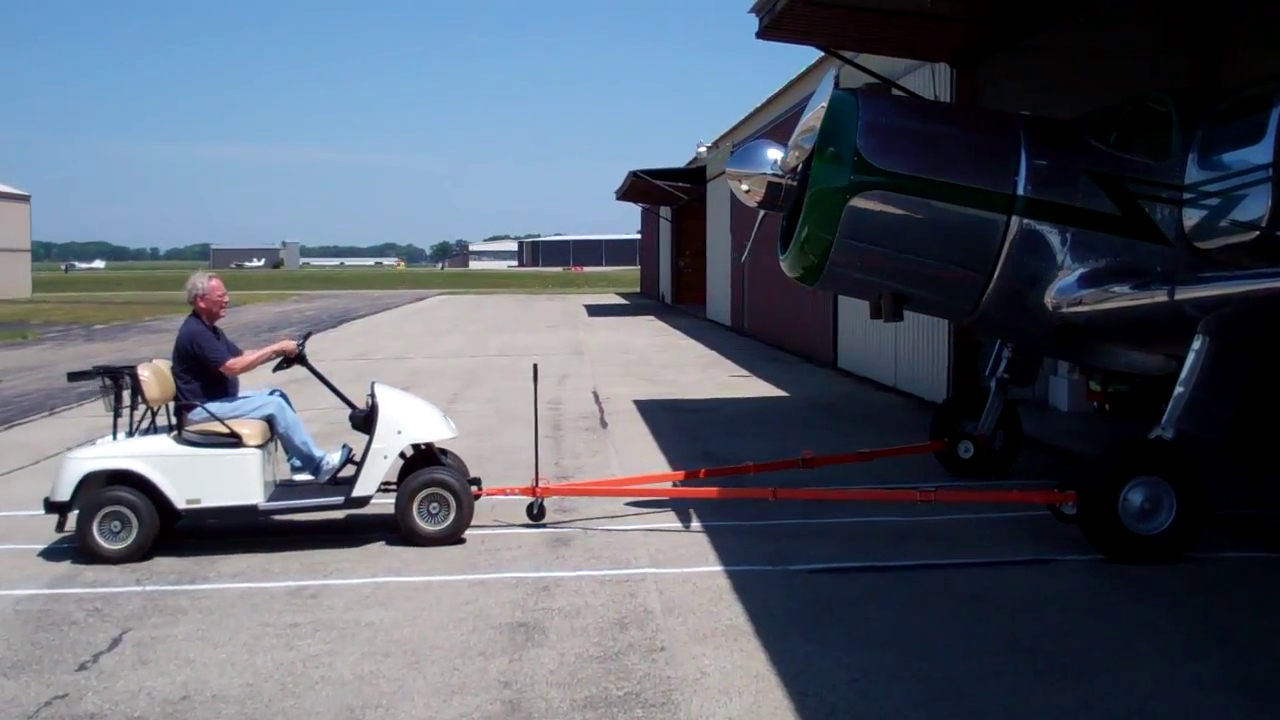person: (172, 271, 353, 484)
